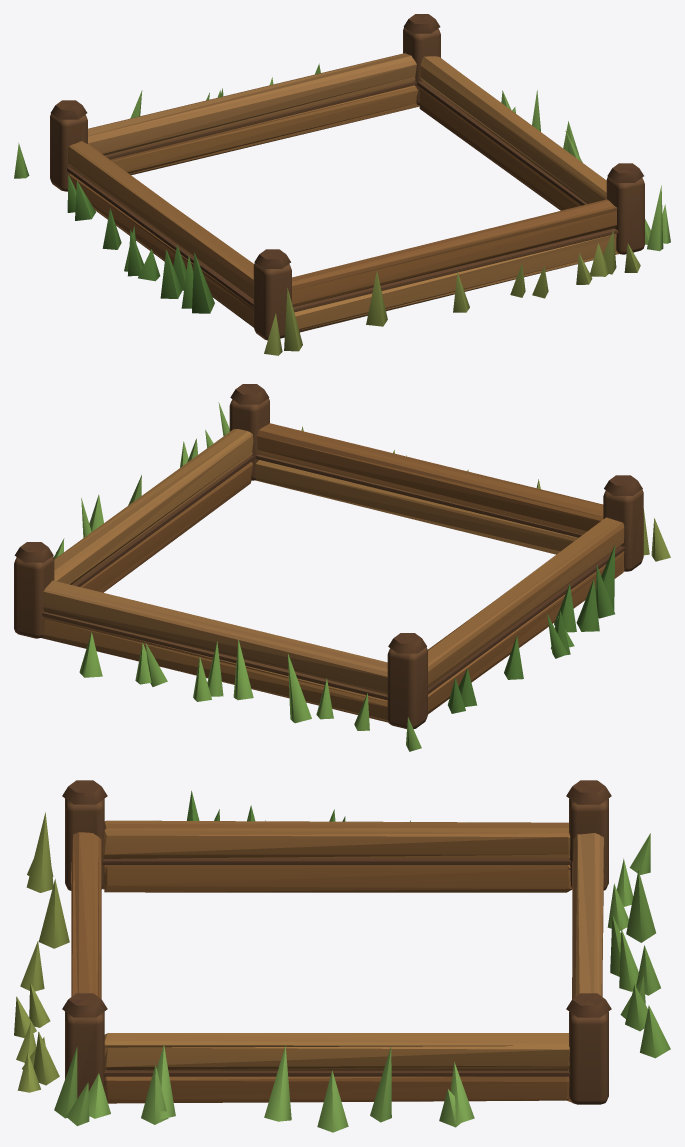
File: plot-bed.glb
The picture shows the model from 3 angles, top to bottom: view 1: azimuth 30°, elevation 25°; view 2: azimuth 150°, elevation 25°; view 3: azimuth 270°, elevation 25°; orthographic projection. The views are drawn at different scales.
Visible parts, largest first — view 1: plot-bed-kit, plot-bed-foliage-0.08; view 2: plot-bed-kit, plot-bed-foliage-0.08; view 3: plot-bed-kit, plot-bed-foliage-0.08.
Part boxes in pixels (box(x1,y1,x2,y2)): plot-bed-kit: box(50, 14, 644, 340); plot-bed-foliage-0.08: box(14, 63, 670, 355); plot-bed-kit: box(14, 384, 643, 728); plot-bed-foliage-0.08: box(54, 402, 670, 751); plot-bed-kit: box(62, 780, 611, 1104); plot-bed-foliage-0.08: box(14, 790, 670, 1132).
Size of the model in its own units: 2.14 by 0.371 by 2.15.
